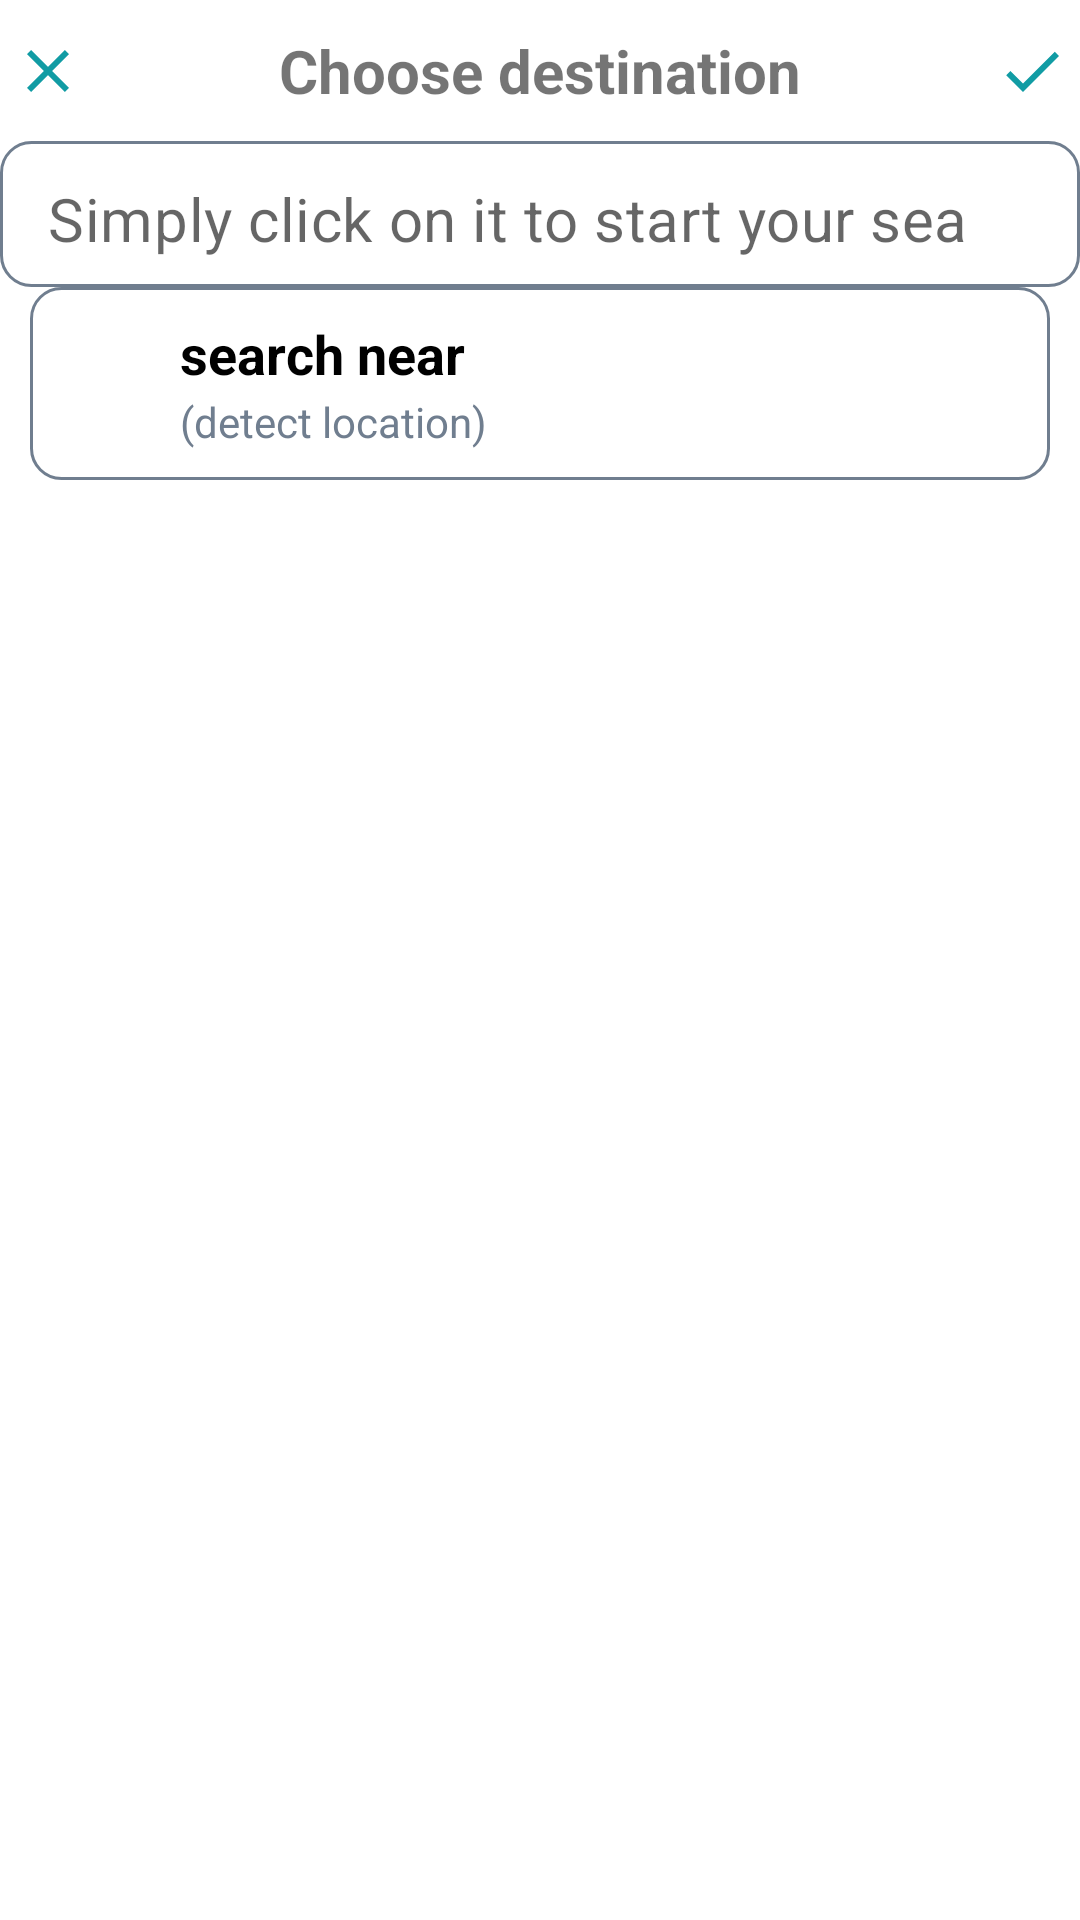

Where icons sit on this 1080×1920 app screen, as bbox=[x1, y1, x2, y2]:
close: bbox=[27, 50, 69, 92]
done: bbox=[1006, 52, 1059, 92]
